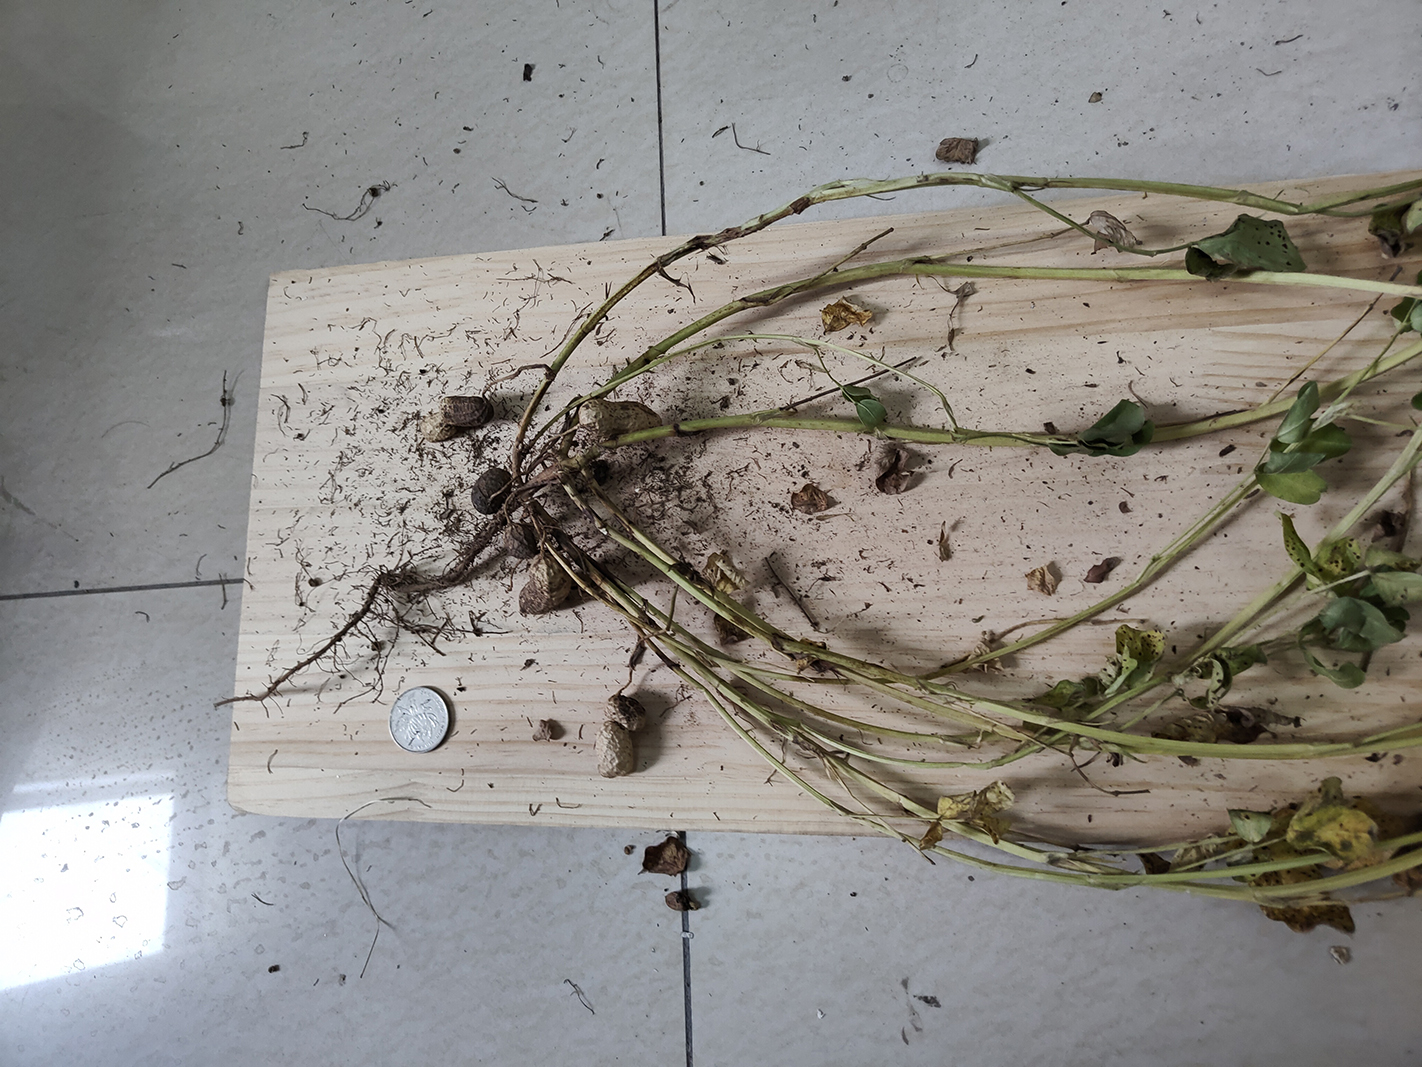h: (593, 697, 645, 777), (579, 400, 659, 430)
l: (419, 396, 491, 442), (518, 554, 570, 613), (470, 468, 511, 513), (504, 525, 532, 554)
